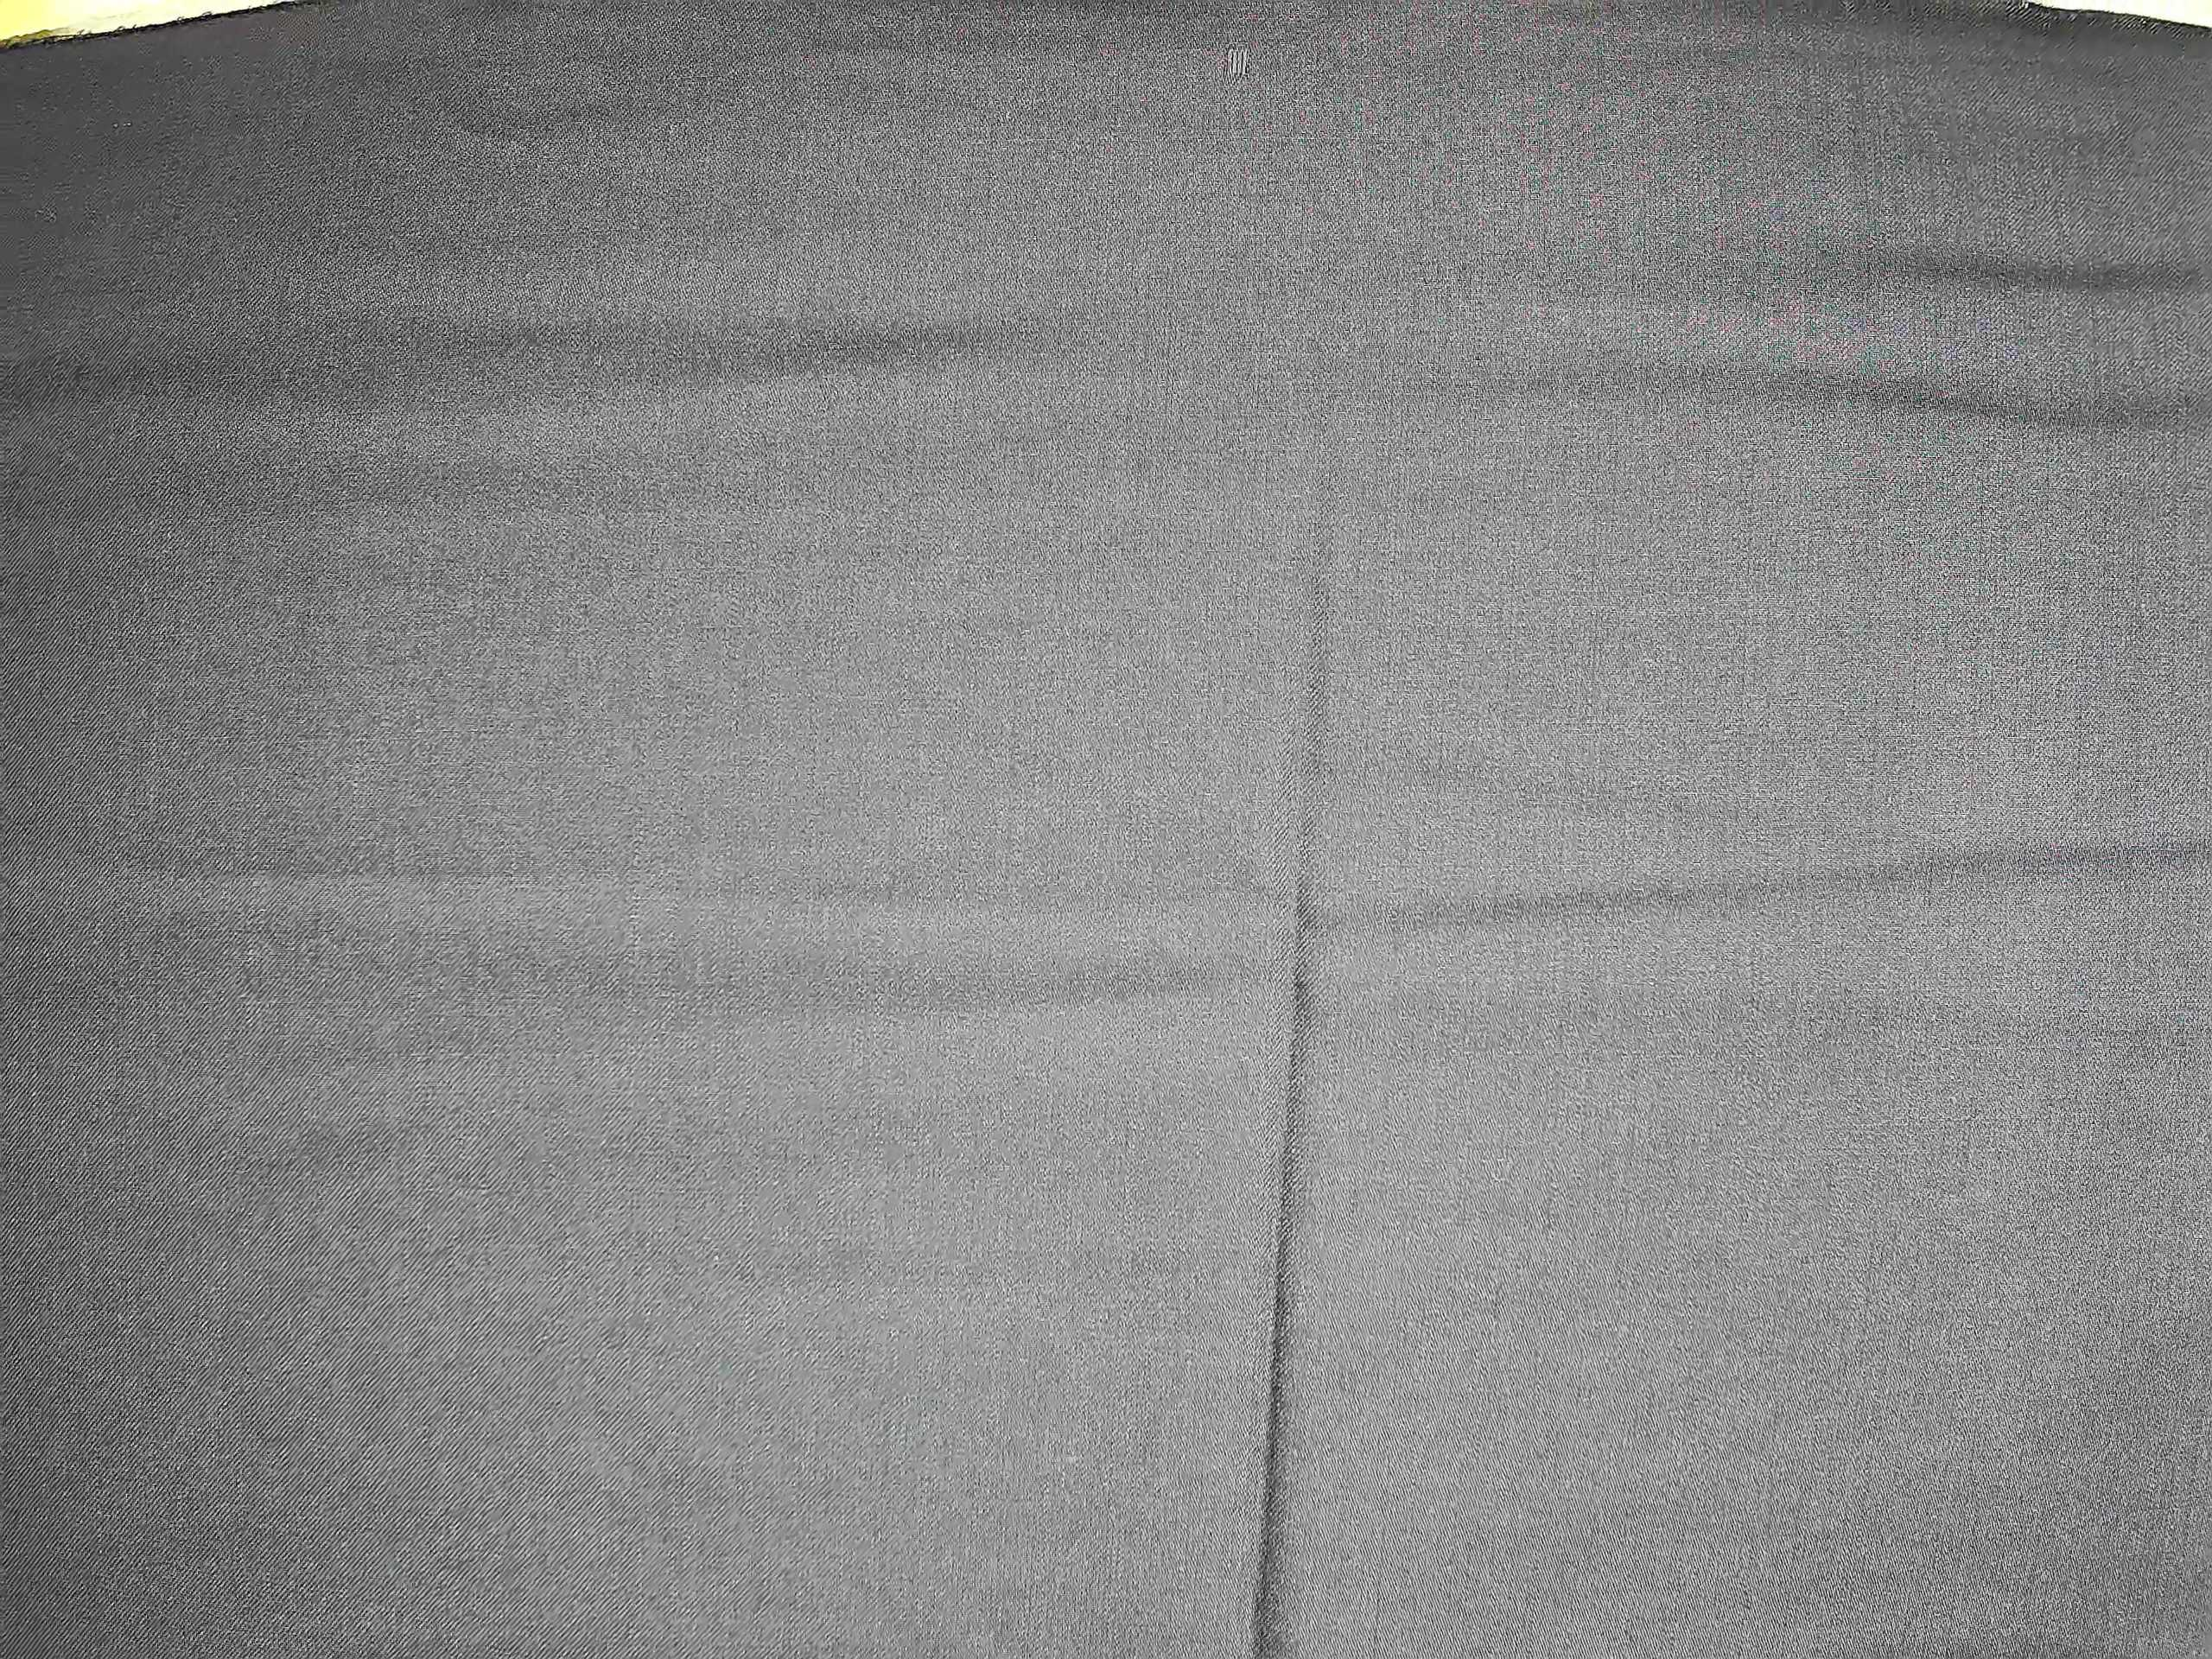jumps: (1209, 35, 1263, 89)
